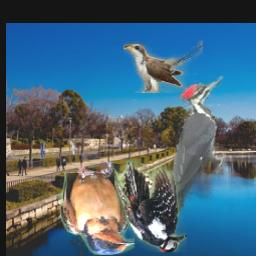Cuckoo: (124, 40, 204, 93)
Swallow: (60, 161, 136, 256)
Woodpecker: (160, 76, 226, 219), (114, 160, 187, 253)
